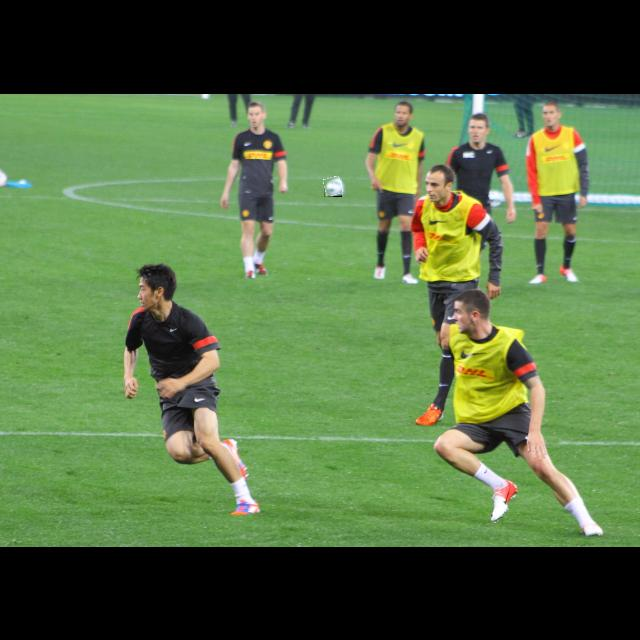Football: (324, 177, 342, 197)
